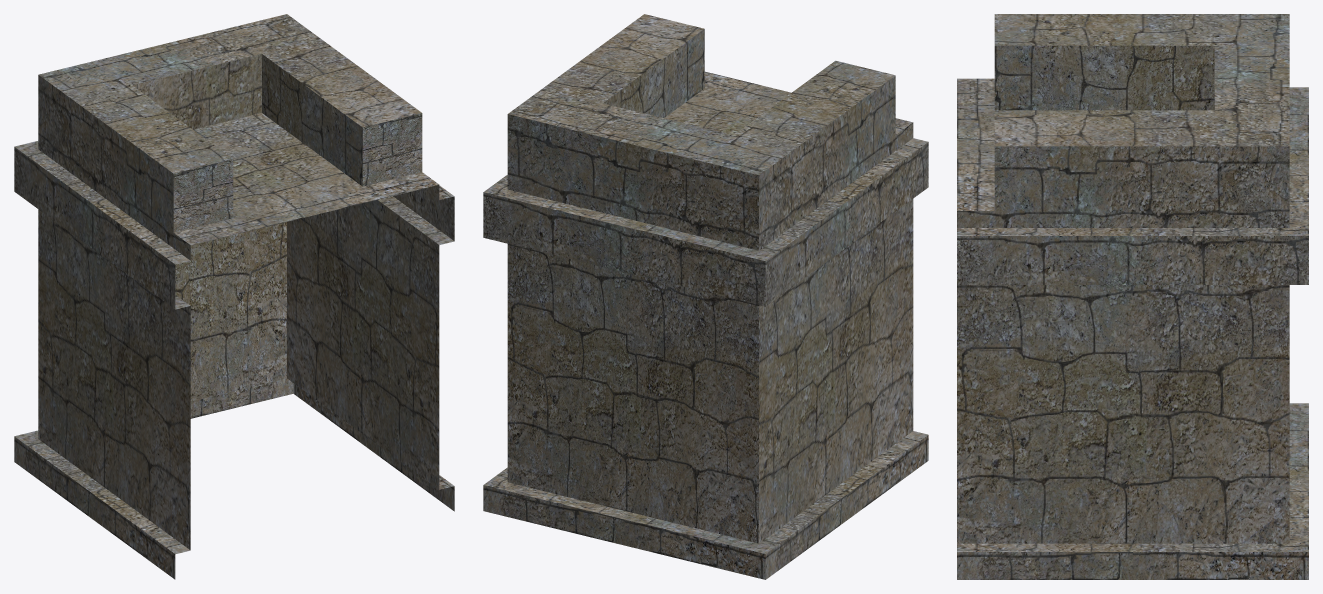
Rendered from DShape.FBX.
3 views of the same model, side by side, from view 1: azimuth 30°, elevation 25°; view 2: azimuth 150°, elevation 25°; view 3: azimuth 270°, elevation 25° (orthographic). The views are drawn at different scales.
Visible parts, largest first — view 1: Claimed103N001; view 2: Claimed103N001; view 3: Claimed103N001.
Part boxes in pixels (bbox=[...]): Claimed103N001: bbox=[14, 14, 454, 579]; Claimed103N001: bbox=[483, 14, 928, 579]; Claimed103N001: bbox=[957, 14, 1308, 579].
Size of the model in its own units: 100 by 133 by 100.
